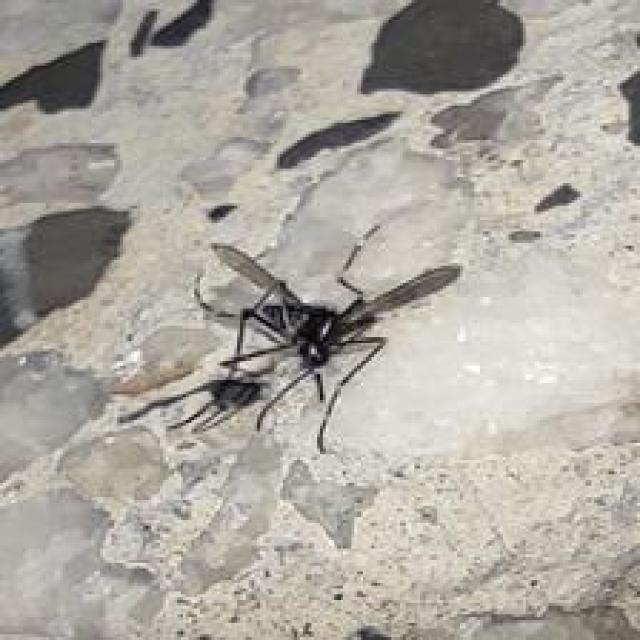Aedes albopictus: (117, 221, 463, 456)
